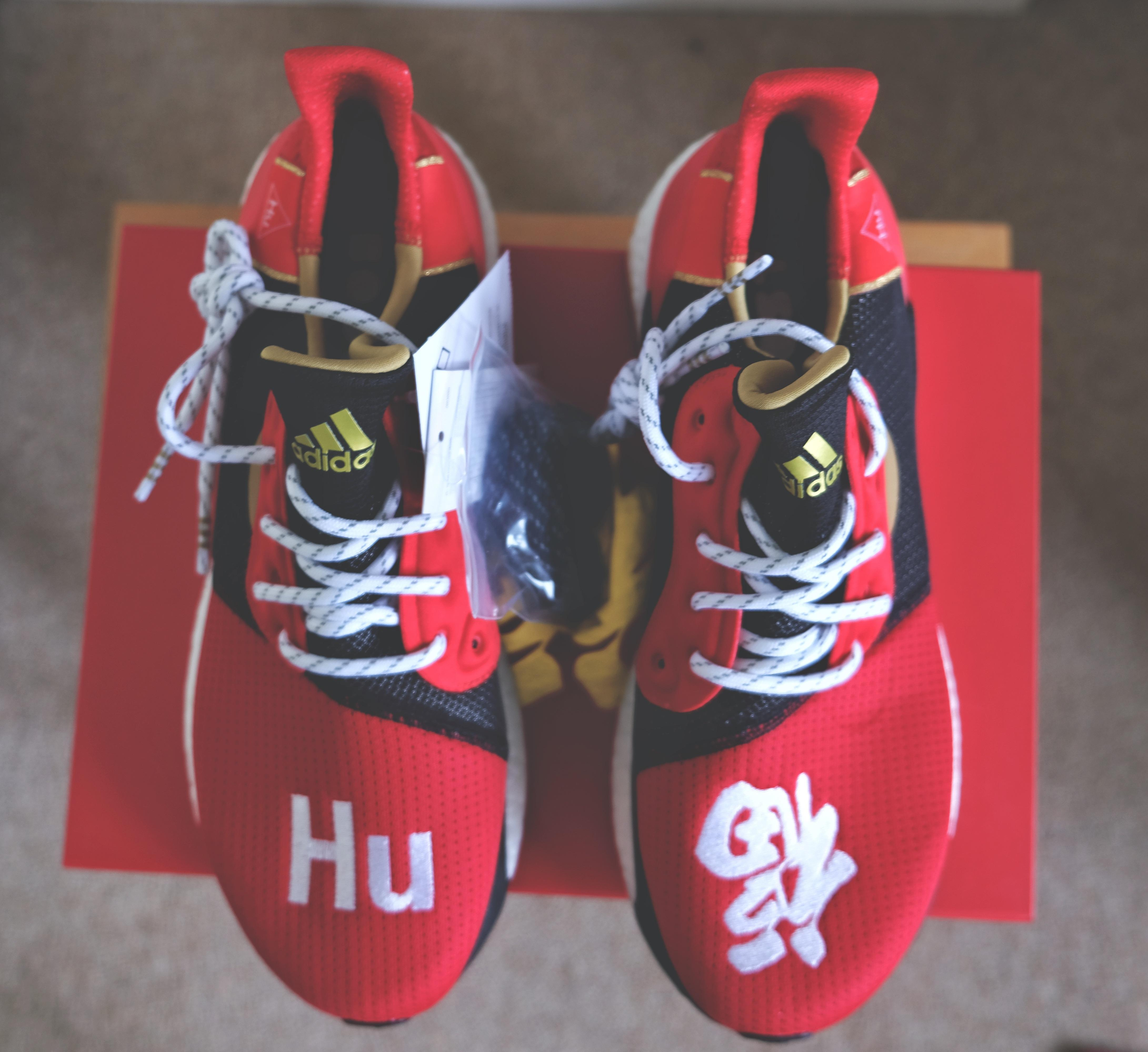sneaker: (141, 34, 582, 1036), (587, 53, 985, 1052)
